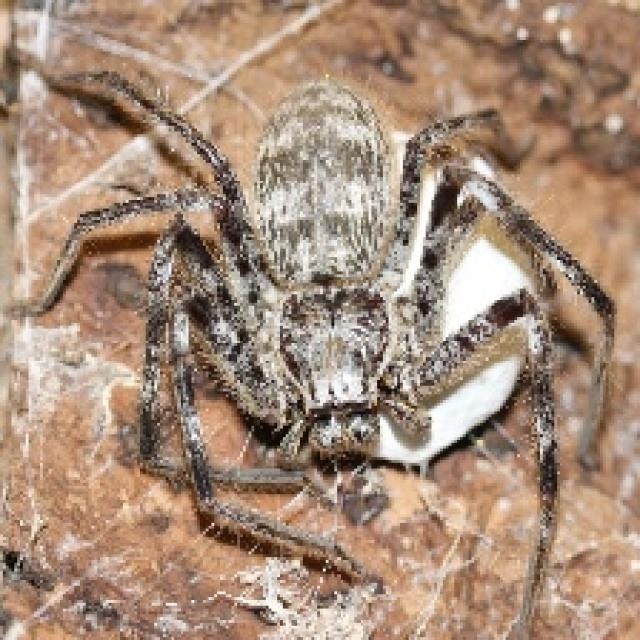Venomous spider: (41, 38, 589, 626)
